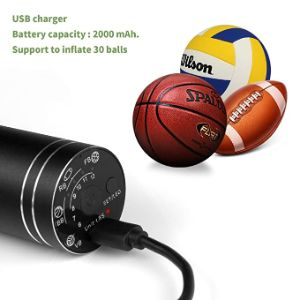baloncesto: (133, 73, 227, 167)
futbol americano: (215, 80, 287, 155)
voleibol: (180, 25, 271, 80)
